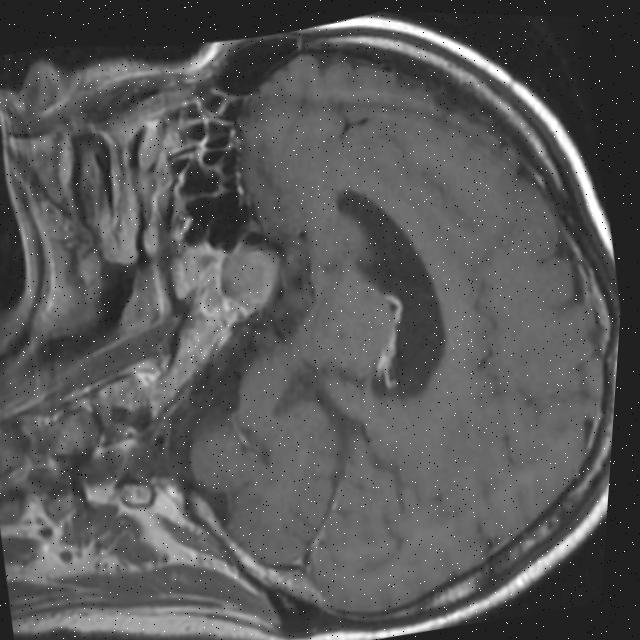Pituitary: (213, 237, 288, 315)
